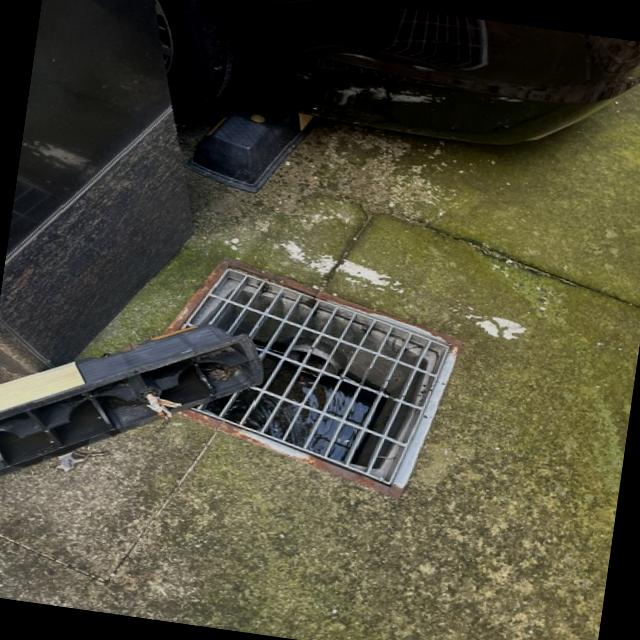drain_area: (176, 268, 449, 486)
drain_full: (134, 267, 452, 486)
